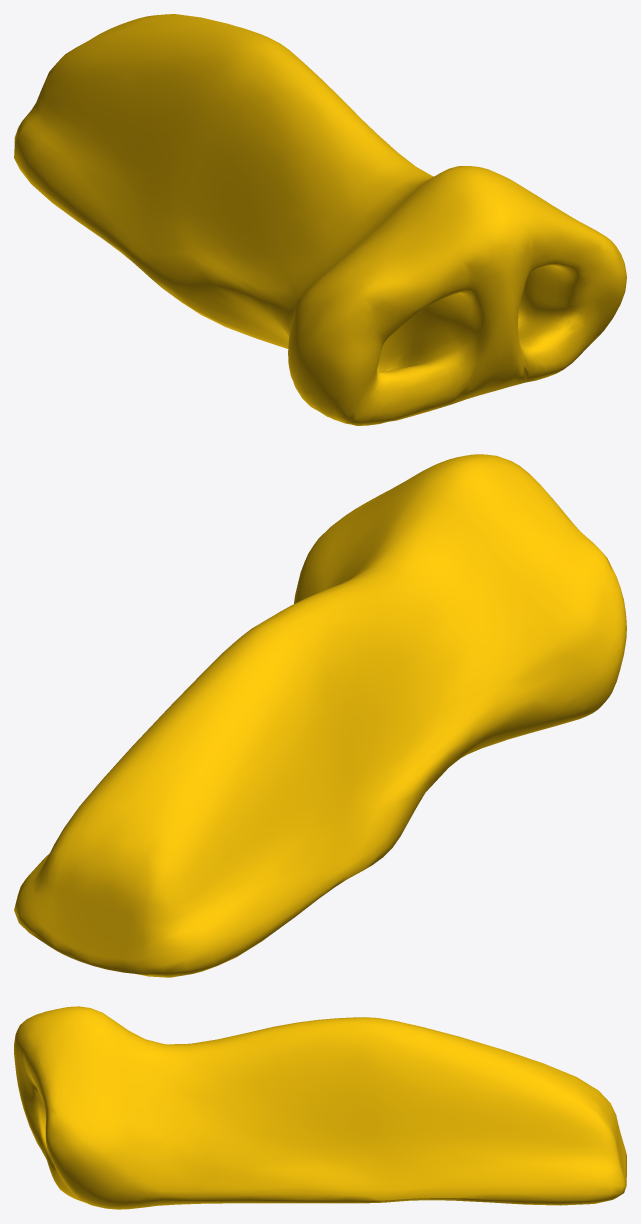
File: nose.gltf
The picture shows the model from 3 angles, top to bottom: view 1: azimuth 30°, elevation 25°; view 2: azimuth 150°, elevation 25°; view 3: azimuth 270°, elevation 25°; orthographic projection. The views are drawn at different scales.
Visible parts, largest first — view 1: Subdivision Surface.1; view 2: Subdivision Surface.1; view 3: Subdivision Surface.1.
Boxes of the visible parts, x1=… form: Subdivision Surface.1: x1=14, y1=14, x2=626, y2=425; Subdivision Surface.1: x1=14, y1=454, x2=626, y2=977; Subdivision Surface.1: x1=14, y1=1006, x2=626, y2=1209.
Size of the model in its own units: 108 by 83.37 by 248.
